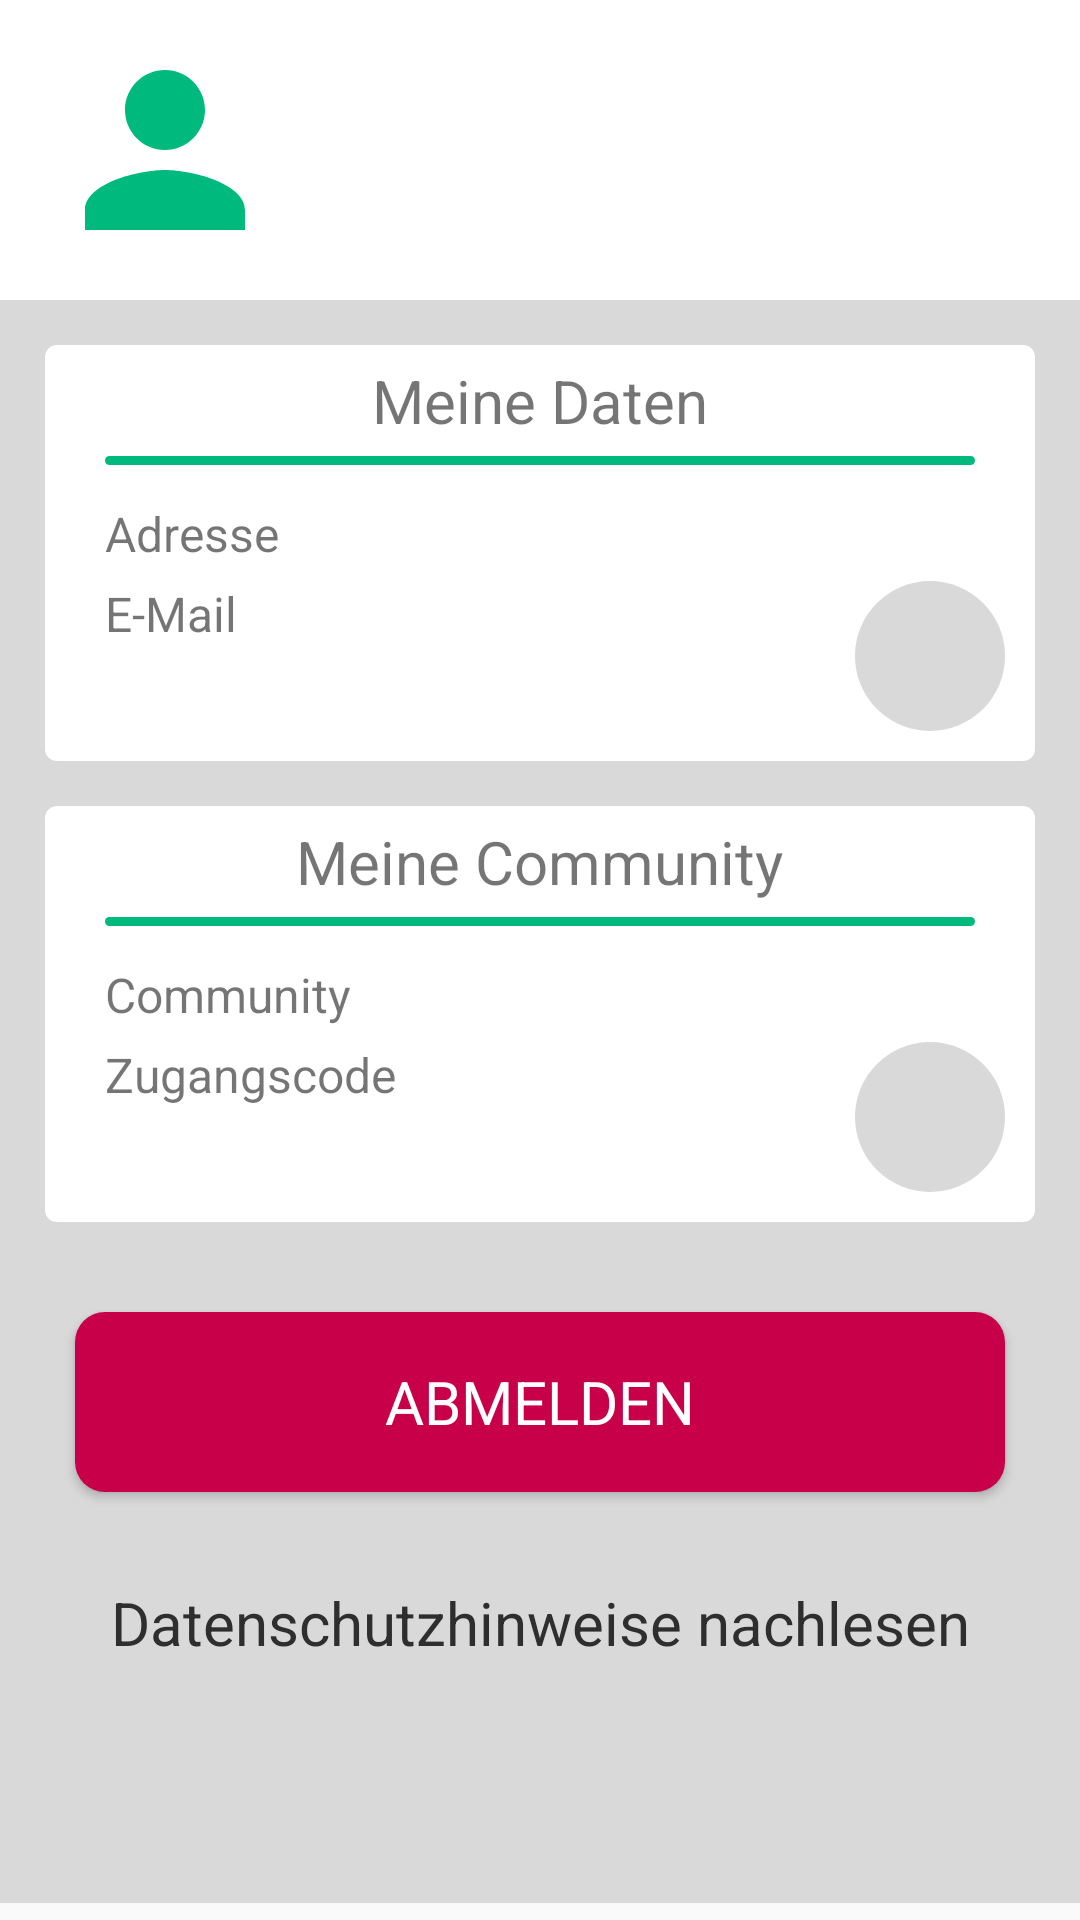

Icons on this 1080w x 1920h Android screen, each with the point to tap as (x,y):
person: (165,150)
